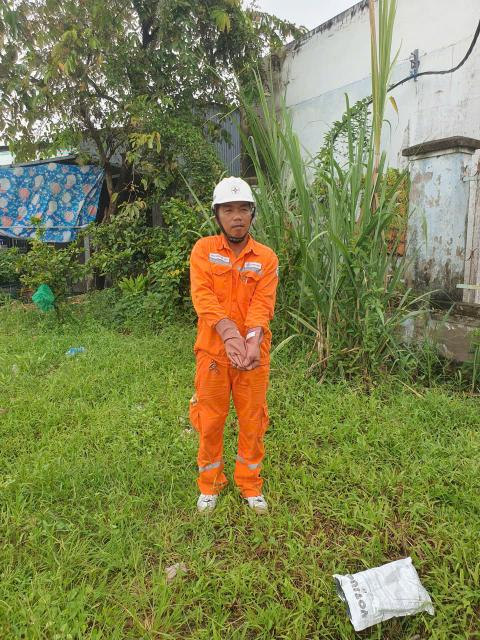gloves: (206, 308, 243, 382), (245, 319, 269, 381)
helmet: (207, 171, 262, 208)
shoes: (233, 483, 279, 521), (188, 481, 230, 521)
